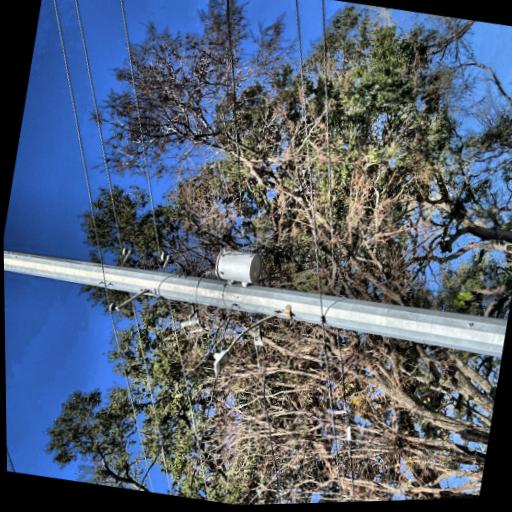pole: (16, 0, 152, 480)
street light: (5, 327, 70, 419)
transformer: (76, 325, 115, 385)
